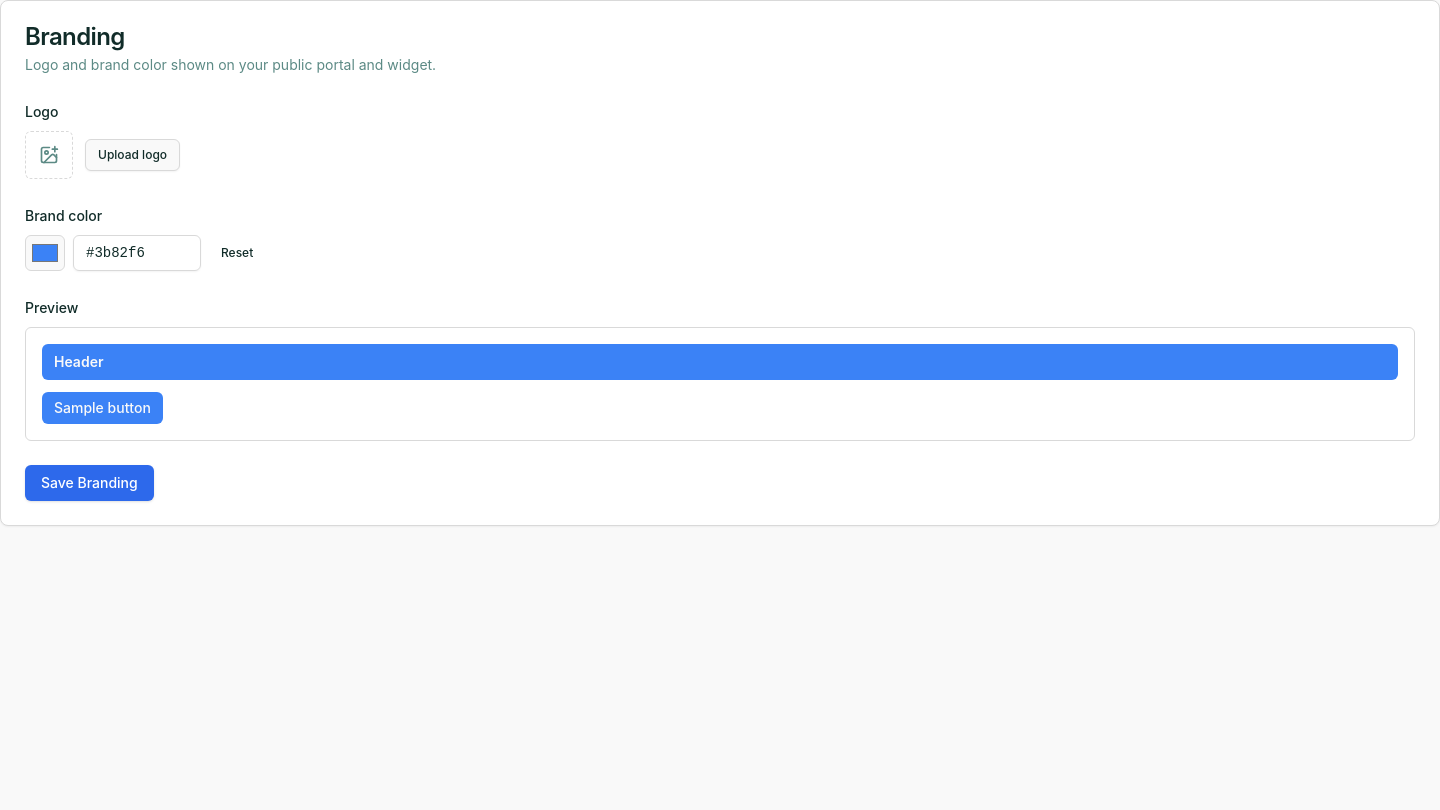
Scenario: hex validation › short/invalid hex #fff blocks Save
The width and height of the screenshot is (1440, 810).
In the field labelled "Brand color": (137, 253) [73,235,201,271], type "#fff"
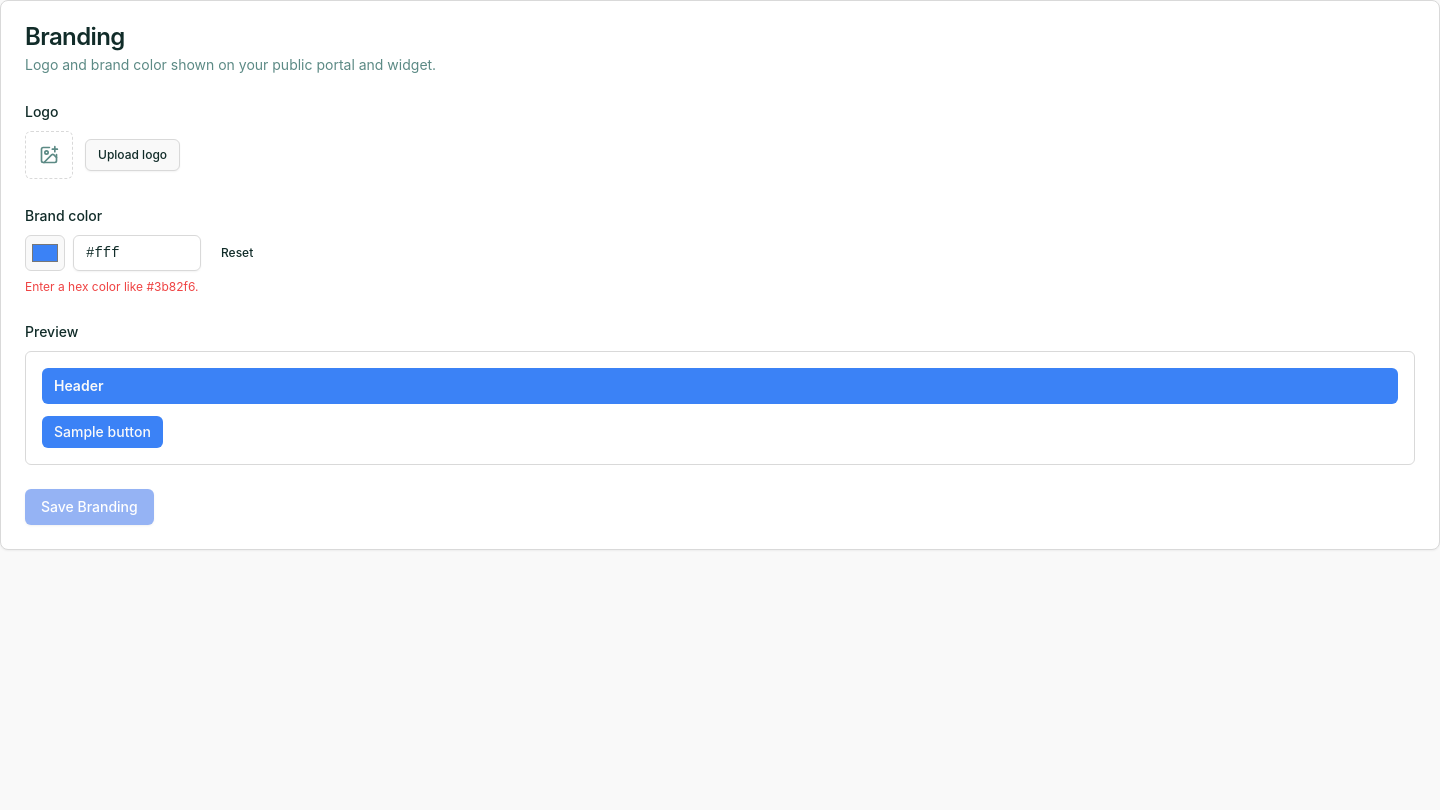
Expected: the button "Save Branding" is disabled, [25,489,154,525]
